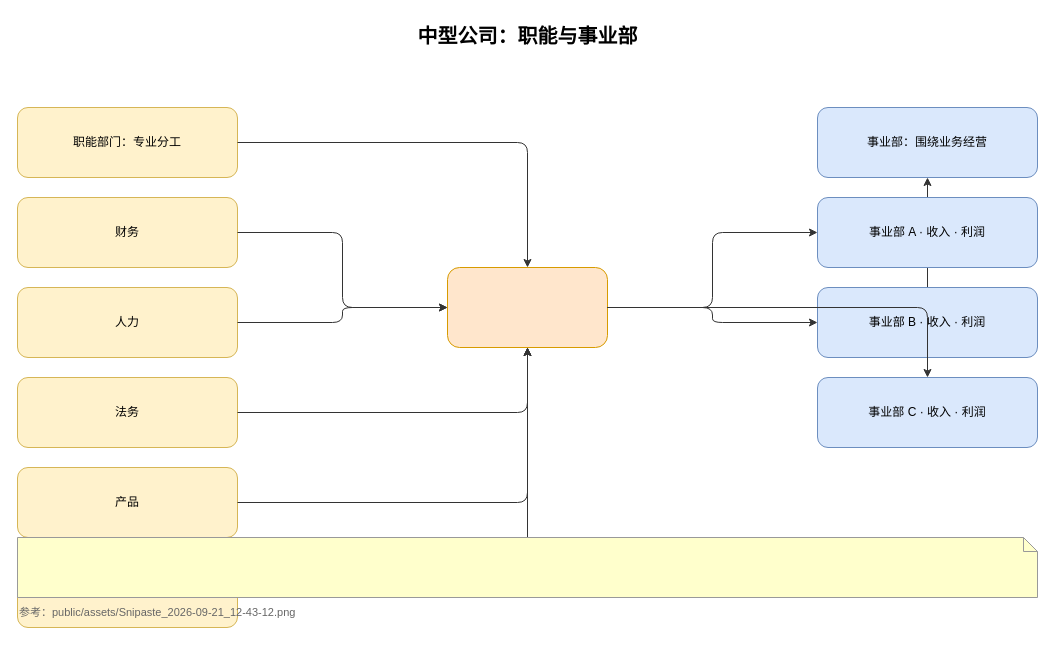
This 1055x645 diagram has some shape labels left out. The shapes that lost their labels are listed below. From the top down, each one's centre as x and y in pixels, then its label:
point (527, 307): 数据共享 ↔ 需求反馈 · 数据 · 任务 · 流程 · 洞察 · 问题
point (527, 567): 扛收入 | 扛利润 | 跨部门协作
